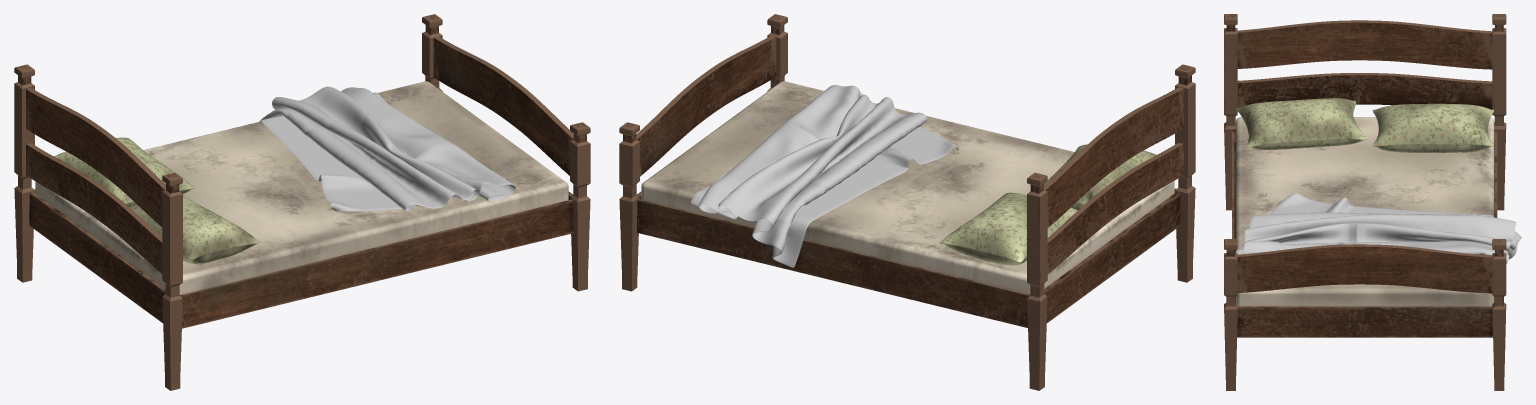
The model's file is cama.obj.
3 views of the same model, side by side, from view 1: azimuth 30°, elevation 25°; view 2: azimuth 150°, elevation 25°; view 3: azimuth 270°, elevation 25° (orthographic). The views are drawn at different scales.
Parts seen in each view (by area): view 1: Old_wood_bed; view 2: Old_wood_bed; view 3: Old_wood_bed.
Part boxes in pixels (x1,y1,x2,y2): Old_wood_bed: (14,14,590,390); Old_wood_bed: (619,14,1195,390); Old_wood_bed: (1224,14,1521,390).
Size of the model in its own units: 304 by 146 by 205.
Materials: 3 (2 with a texture image).
